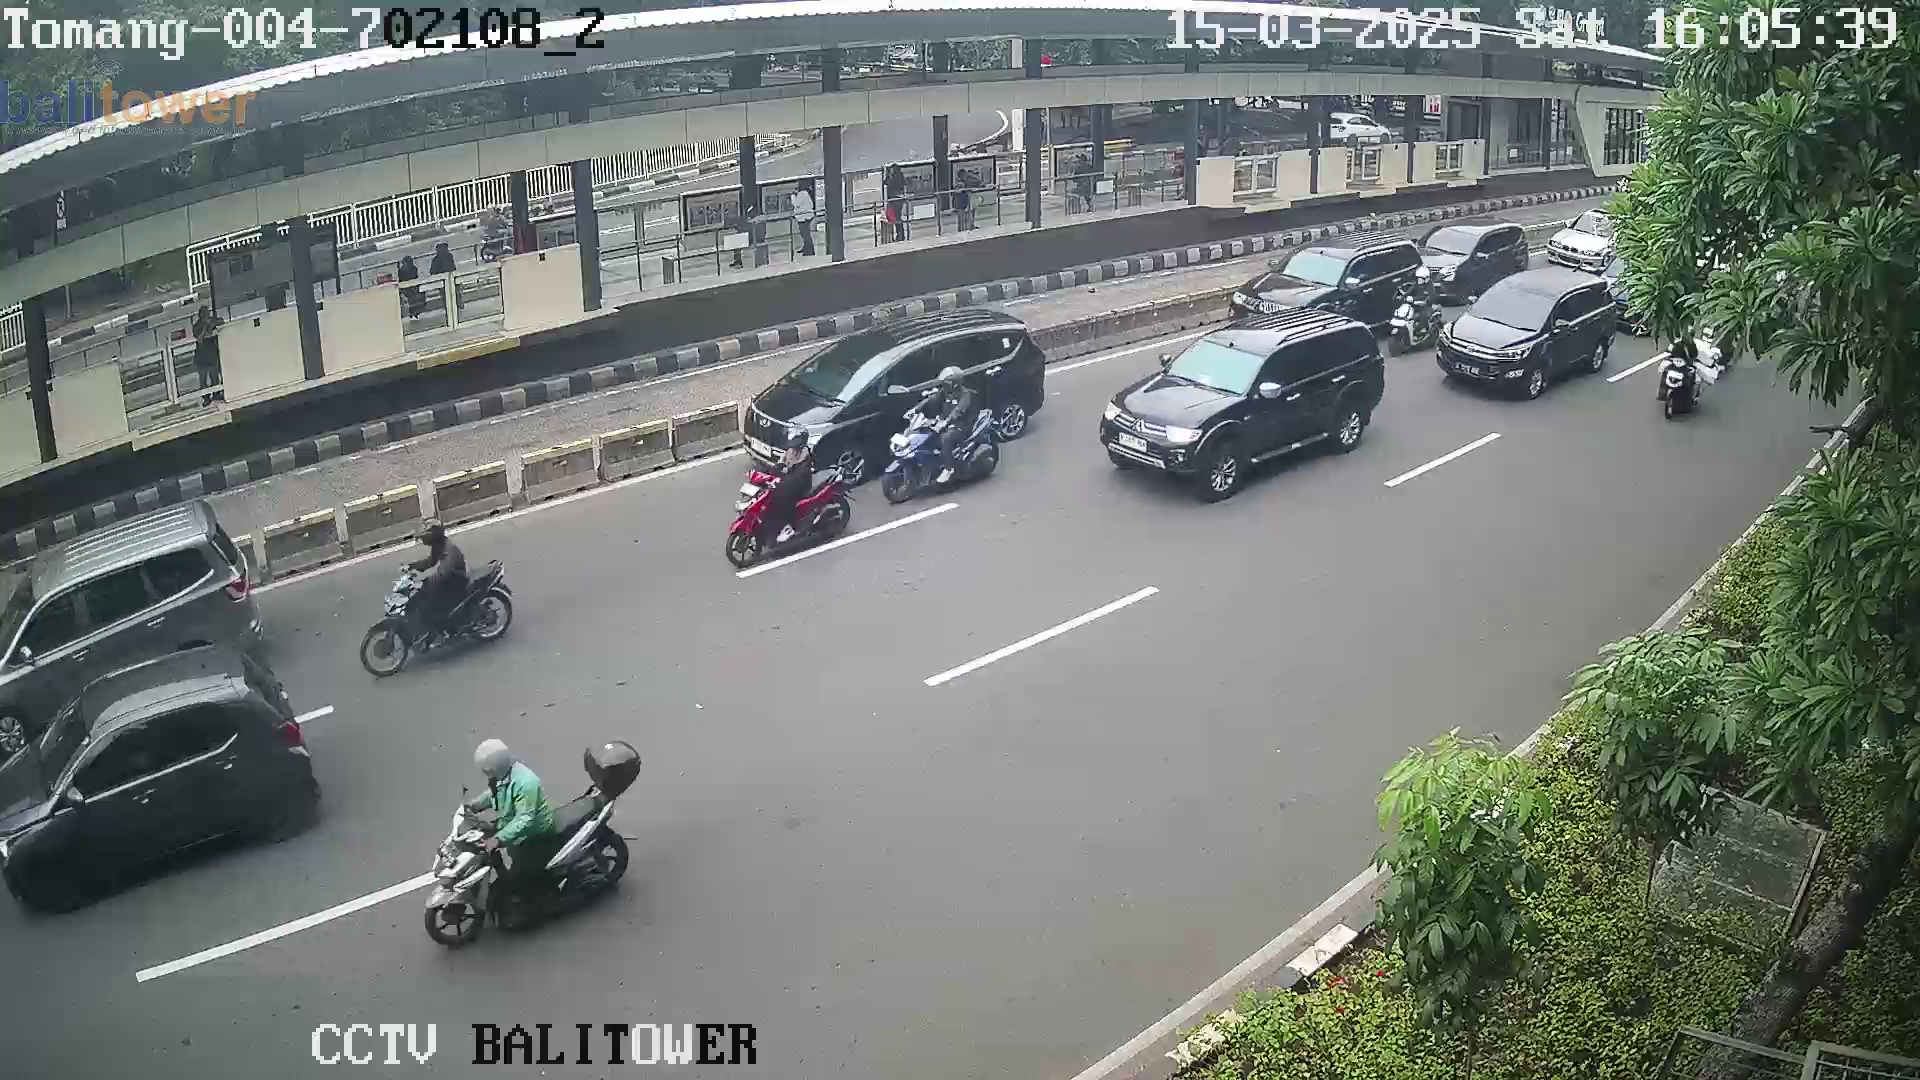half-face helmet: (931, 363, 984, 408), (472, 724, 515, 778), (782, 424, 825, 473), (406, 516, 451, 559)
